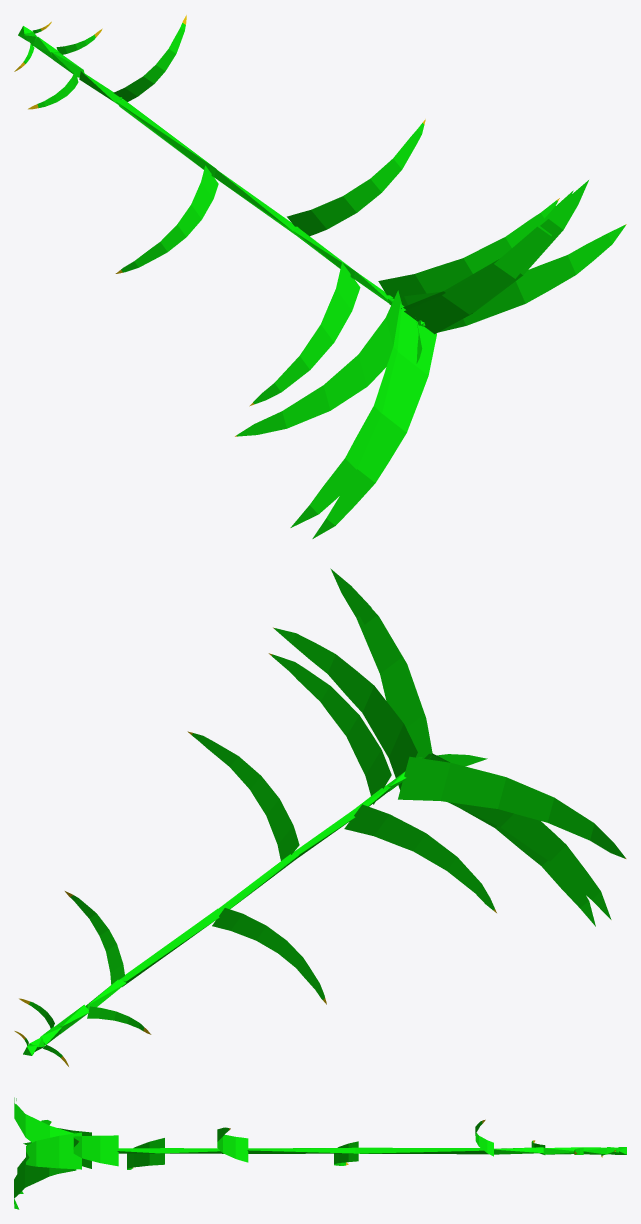
The model's file is usm_26_2.5D_2018-10-03_0.obj.
3 renders of one model, top to bottom at view 1: azimuth 30°, elevation 25°; view 2: azimuth 150°, elevation 25°; view 3: azimuth 270°, elevation 25°, orthographic. The views are drawn at different scales.
Parts seen in each view (by area): view 1: vid_30, vid_22, vid_32, vid_24, vid_20, vid_16, vid_18, vid_26, vid_14, vid_28, vid_12, vid_13 (+1 smaller); view 2: vid_22, vid_24, vid_28, vid_26, vid_20, vid_18, vid_16, vid_14, vid_30, vid_12, vid_13, vid_32 (+1 smaller); view 3: vid_24, vid_20, vid_28, vid_13, vid_30, vid_16, vid_18, vid_15, vid_14, vid_17, vid_11, vid_12 (+4 smaller).
Boxes of the visible parts, <box> form: vid_30: <box>312,307,436,538</box>; vid_22: <box>237,290,401,436</box>; vid_32: <box>404,190,573,334</box>; vid_24: <box>404,225,625,332</box>; vid_20: <box>378,200,557,306</box>; vid_16: <box>287,123,424,236</box>; vid_18: <box>253,262,360,404</box>; vid_26: <box>290,303,403,527</box>; vid_14: <box>121,165,218,272</box>; vid_28: <box>401,180,588,316</box>; vid_12: <box>113,23,185,101</box>; vid_13: <box>116,99,216,176</box>; vid_22: <box>398,756,624,858</box>; vid_24: <box>274,628,417,789</box>; vid_28: <box>330,568,431,758</box>; vid_26: <box>424,753,611,919</box>; vid_20: <box>272,654,391,804</box>; vid_18: <box>344,804,494,910</box>; vid_16: <box>192,733,299,860</box>; vid_14: <box>212,908,324,999</box>; vid_30: <box>431,753,595,926</box>; vid_12: <box>70,895,124,984</box>; vid_13: <box>120,908,220,986</box>; vid_32: <box>343,581,432,753</box>; vid_24: <box>26,1132,81,1169</box>; vid_20: <box>73,1135,118,1166</box>; vid_28: <box>14,1097,73,1142</box>; vid_13: <box>355,1147,488,1154</box>; vid_30: <box>14,1132,72,1209</box>; vid_16: <box>217,1127,248,1162</box>; vid_18: <box>127,1138,164,1169</box>; vid_15: <box>247,1147,355,1153</box>; vid_14: <box>334,1141,358,1165</box>; vid_17: <box>160,1148,223,1153</box>; vid_11: <box>493,1147,543,1154</box>; vid_12: <box>475,1121,493,1156</box>.
Bounding box in the file's own units: 135 × 102 × 273.
